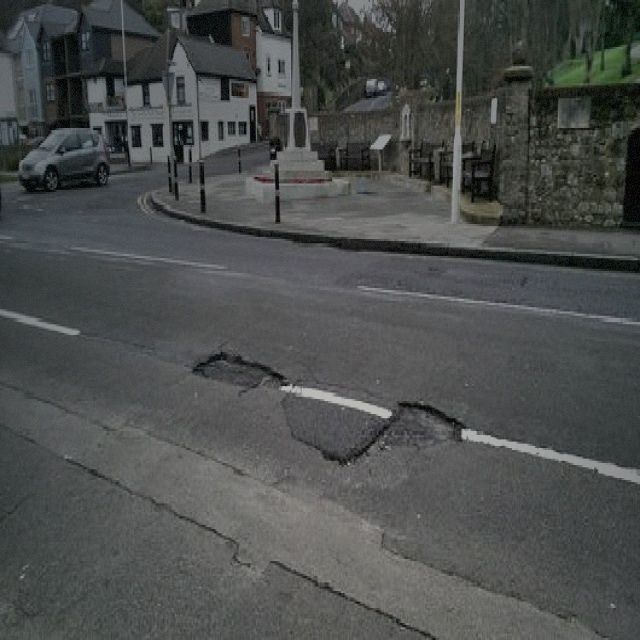pothole: (384, 395, 465, 448), (190, 348, 282, 392)
